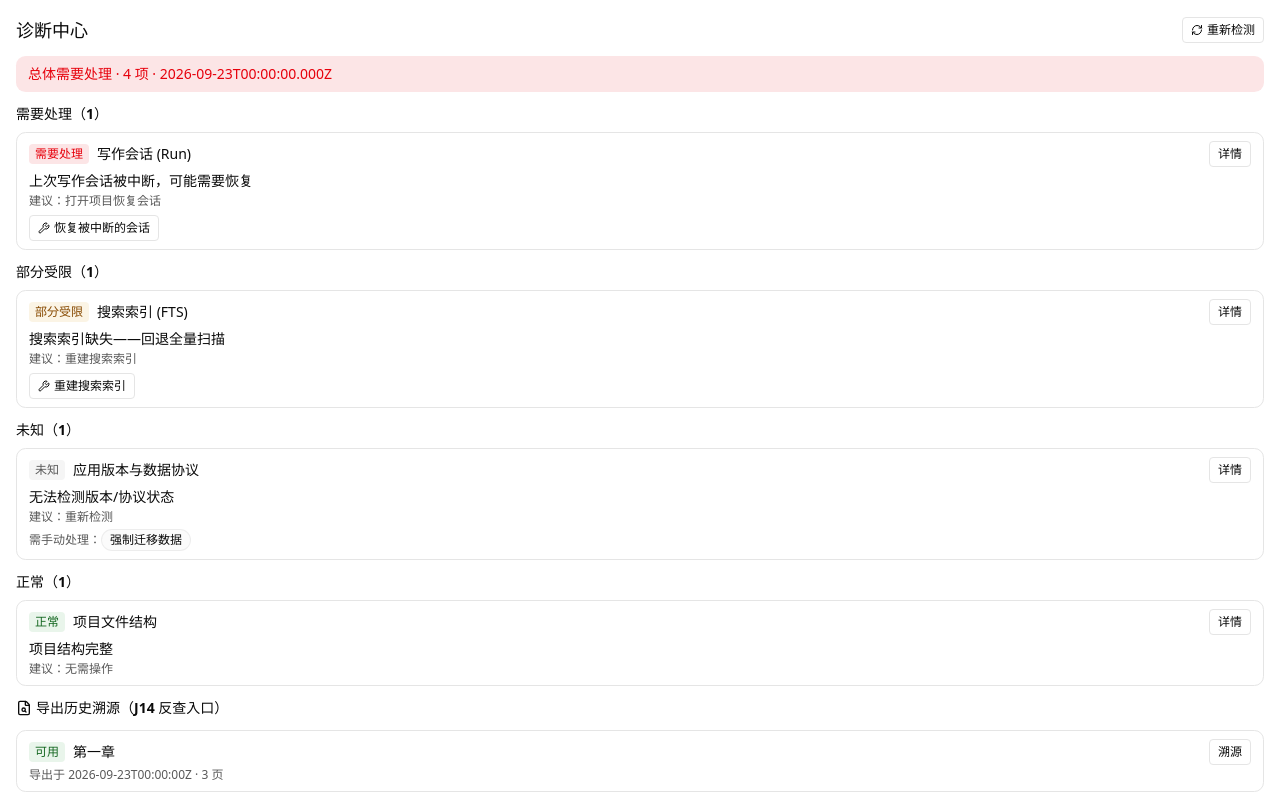
Scenario: DiagnosticsCenter — J14 反查用户入口（J14-UI-001） › 历史列表渲染 + 点击溯源展开 provenance
Expected: the element with test id "export-entry-out/ch.pdf::abc" is shown, [16,730,1264,792]
Expected: the text with test id "export-status-out/ch.pdf::abc" reads "可用", [35,743,59,760]
Click the button with test id "export-open-out/ch.pdf::abc" at (1230, 752), box [1209,739,1251,765]
(page scrolled)
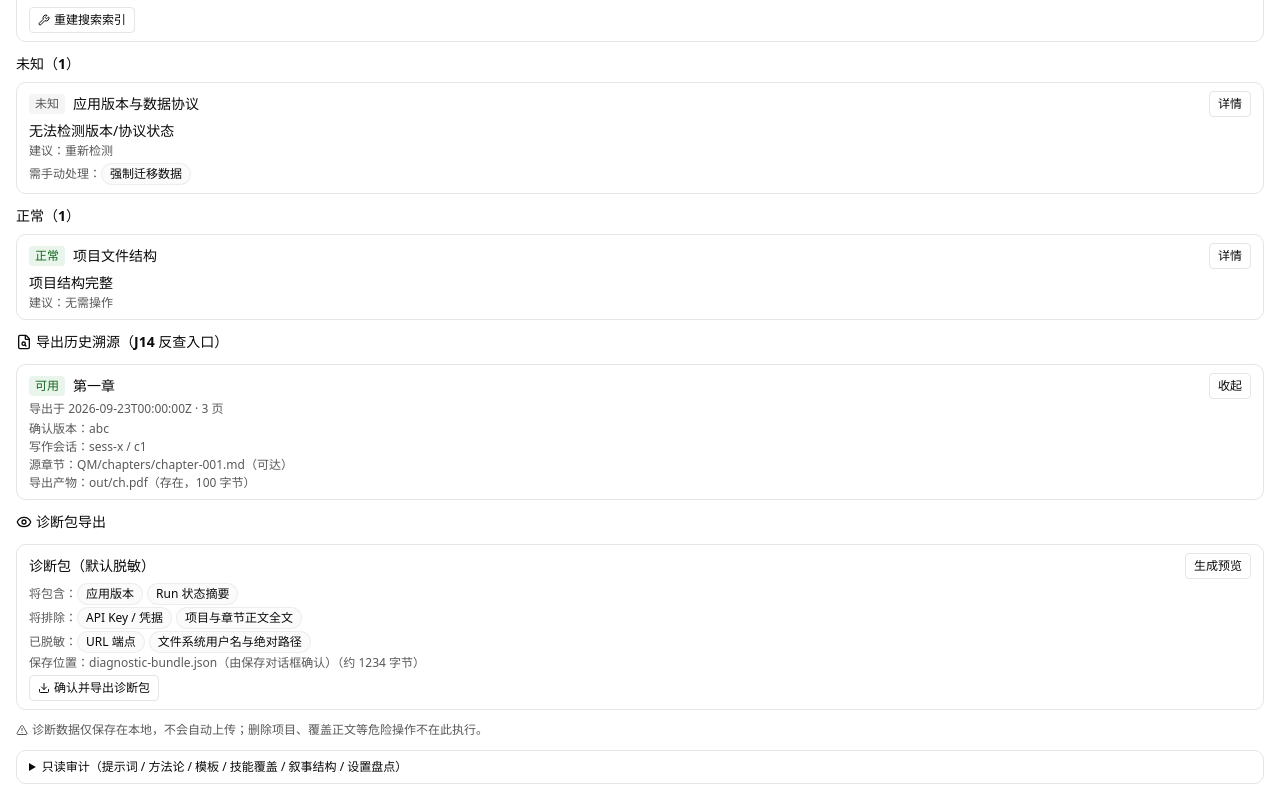
Now the element with test id "export-provenance-out/ch.pdf::abc" shows "sess-x", box [89,438,123,455]
Now the element with test id "export-provenance-out/ch.pdf::abc" shows "chapter-001", box [77,456,245,473]
